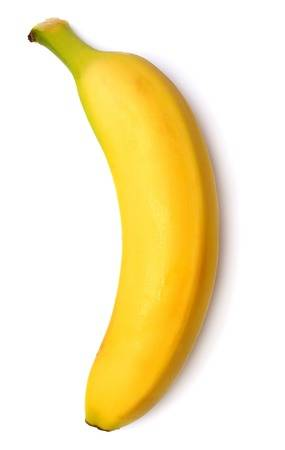organic: (10, 10, 261, 439)
